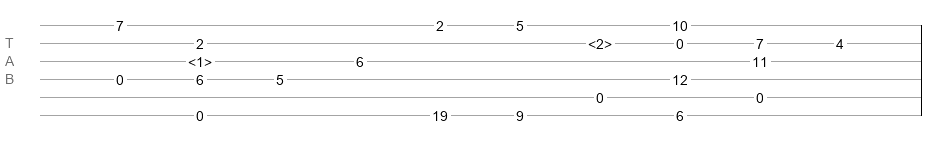0: (116, 72, 124, 82), (196, 108, 204, 118), (596, 90, 604, 100), (676, 36, 684, 46), (756, 90, 764, 100)
10: (672, 18, 688, 28)
11: (752, 54, 768, 64)
12: (672, 72, 688, 82)
19: (432, 108, 448, 118)
2: (196, 36, 204, 46), (436, 18, 444, 28)
4: (836, 36, 844, 46)
5: (276, 72, 284, 82), (516, 18, 524, 28)
6: (196, 72, 204, 82), (356, 54, 364, 64), (676, 108, 684, 118)
7: (116, 18, 124, 28), (756, 36, 764, 46)
9: (516, 108, 524, 118)
harmonic: (188, 54, 212, 64), (588, 36, 612, 46)
